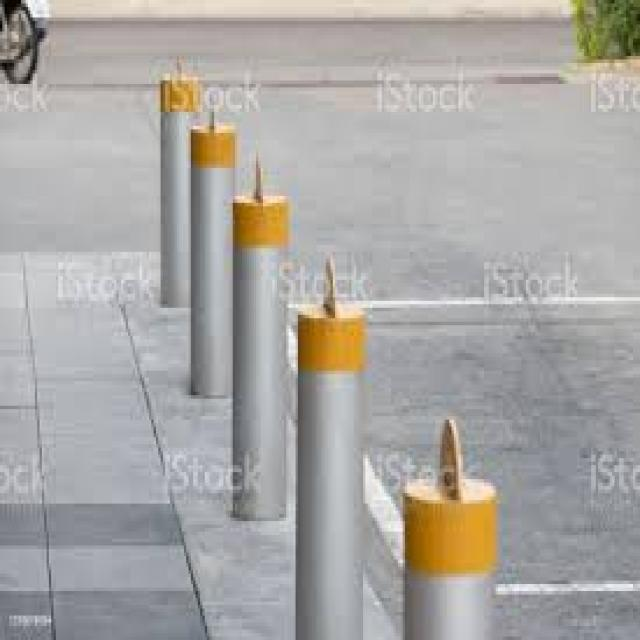bollard: (294, 248, 372, 640), (226, 135, 296, 536), (400, 400, 502, 640), (186, 87, 249, 410), (158, 44, 208, 314)
